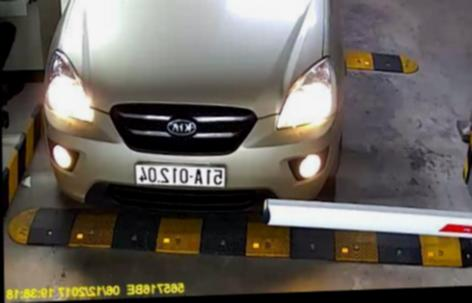License_Plate: (133, 160, 231, 190)
